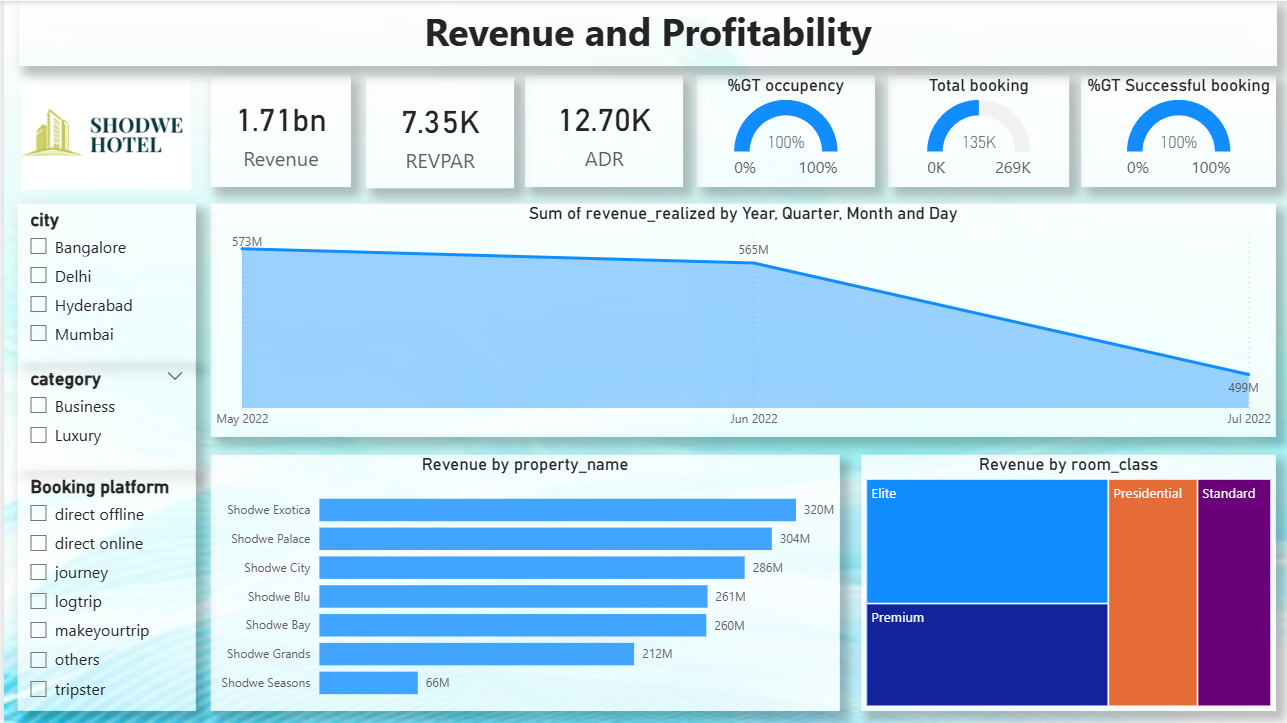

The dashboard page shown, as its layout file describes it:
{"tool":"powerbi","page":{"name":"Page 1","canvas":[1280,720],"ordinal":0},"visuals":[{"type":"card","fields":{"Values":["fact_booking.revenue"]},"box":[205.3,73.8,139.6,111.4],"z":0},{"type":"gauge","fields":{"Y":["fact_booking.total booking"]},"box":[878.9,73.8,179.8,111.4],"z":1000},{"type":"gauge","fields":{"Y":["fact_booking.occupency%"]},"box":[688.4,73.8,177.1,111.4],"z":2000},{"type":"treemap","fields":{"Group":["dim_rooms.room_class"],"Values":["fact_booking.revenue"]},"box":[852.1,450.9,411.9,254.9],"z":3000},{"type":"barChart","fields":{"Category":["dim_hotels.property_name"],"Y":["fact_booking.revenue"]},"box":[205.3,450.9,625.3,254.9],"z":4000},{"type":"card","fields":{"Values":["fact_booking.REVPAR"]},"box":[359.6,75.1,147.6,111.4],"z":5000},{"type":"card","fields":{"Values":["fact_booking.ADR"]},"box":[517.9,73.8,157,111.4],"z":6000},{"type":"gauge","fields":{"Y":["fact_booking.Successful booking"]},"box":[1070.8,73.8,193.2,111.4],"z":7000},{"type":"areaChart","fields":{"Category":["dim_date.mmm yy.Variation.Date Hierarchy.Year","dim_date.mmm yy.Variation.Date Hierarchy.Quarter","dim_date.mmm yy.Variation.Date Hierarchy.Month","dim_date.mmm yy.Variation.Date Hierarchy.Day"],"Y":["Sum(fact_booking.revenue_realized)"]},"box":[205.3,201.3,1058.7,232.1],"z":8000},{"type":"slicer","fields":{"Values":["dim_hotels.city"]},"box":[13.4,201.3,177.1,158.3],"z":9000},{"type":"slicer","fields":{"Values":["dim_hotels.category"]},"box":[13.4,359.6,177.1,107.3],"z":10000},{"type":"slicer","fields":{"Values":["fact_booking.booking_platform"]},"box":[13.6,467.2,177.1,238.4],"z":11000},{"type":"image","box":[13.4,56.4,177.1,150.3],"z":12000},{"type":"textbox","box":[14.8,0,1250.6,64.4],"z":13000}]}

Visuals, with their boxes in screenshot pixels (x1, y1, x2, y2), scaled from the page's 1280x720 canvas onto the 1287x723 screenshot:
card - fact_booking.revenue: (x1=206, y1=74, x2=347, y2=186)
gauge - fact_booking.total booking: (x1=884, y1=74, x2=1064, y2=186)
gauge - fact_booking.occupency%: (x1=692, y1=74, x2=870, y2=186)
treemap - dim_rooms.room_class x fact_booking.revenue: (x1=857, y1=453, x2=1271, y2=709)
barChart - dim_hotels.property_name x fact_booking.revenue: (x1=206, y1=453, x2=835, y2=709)
card - fact_booking.REVPAR: (x1=362, y1=75, x2=510, y2=187)
card - fact_booking.ADR: (x1=521, y1=74, x2=679, y2=186)
gauge - fact_booking.Successful booking: (x1=1077, y1=74, x2=1271, y2=186)
areaChart - dim_date.mmm yy.Variation.Date Hierarchy.Year x dim_date.mmm yy.Variation.Date Hierarchy.Quarter: (x1=206, y1=202, x2=1271, y2=435)
slicer - dim_hotels.city: (x1=13, y1=202, x2=192, y2=361)
slicer - dim_hotels.category: (x1=13, y1=361, x2=192, y2=469)
slicer - fact_booking.booking_platform: (x1=14, y1=469, x2=192, y2=709)
image: (x1=13, y1=57, x2=192, y2=208)
textbox: (x1=15, y1=0, x2=1272, y2=65)
